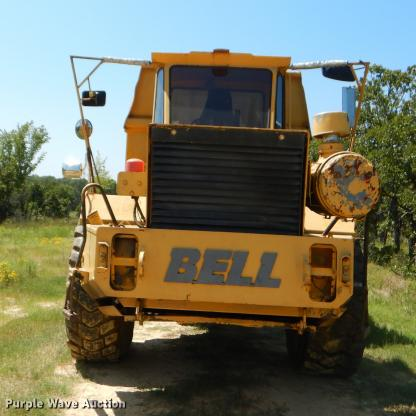dump_truck: (58, 41, 386, 383)
